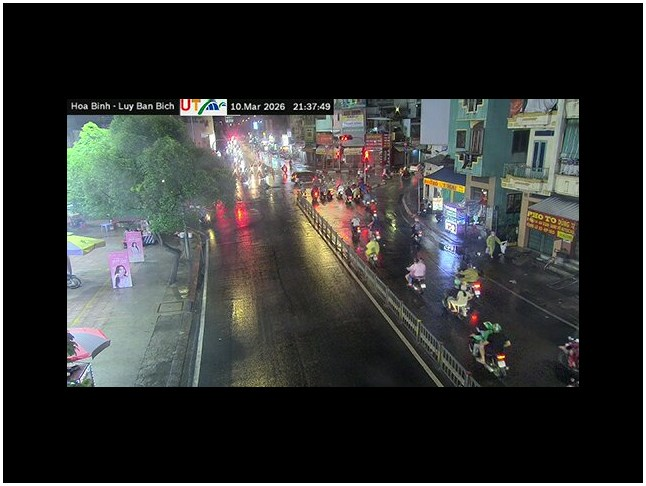car: (67, 325, 111, 386)
